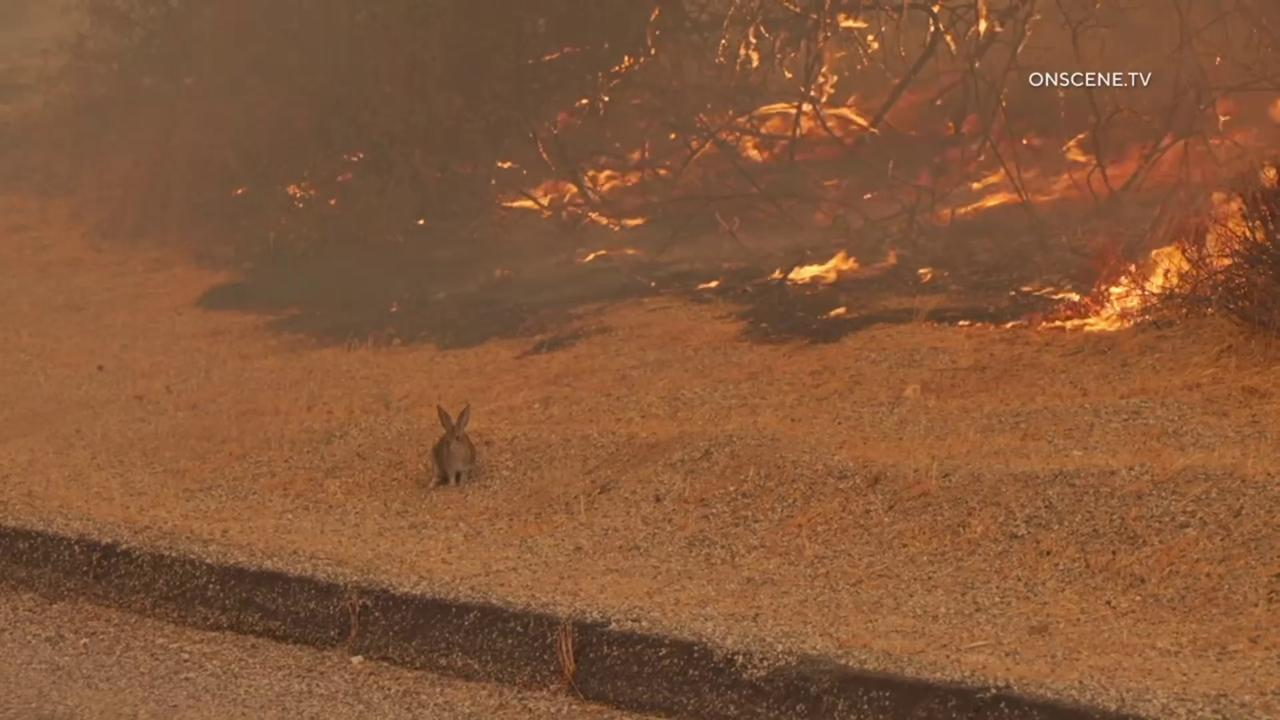fire: (680, 0, 912, 176), (957, 234, 1195, 334), (496, 140, 673, 236), (934, 159, 1041, 223), (1193, 187, 1270, 273), (759, 245, 863, 292), (919, 1, 957, 57), (1057, 129, 1103, 167), (963, 0, 1003, 42), (525, 43, 590, 68), (575, 248, 644, 264), (644, 5, 663, 58), (609, 51, 635, 80), (812, 304, 853, 321), (697, 276, 724, 294), (912, 263, 935, 284), (571, 94, 592, 112), (1214, 114, 1231, 136)
smoke: (0, 0, 1280, 329)
